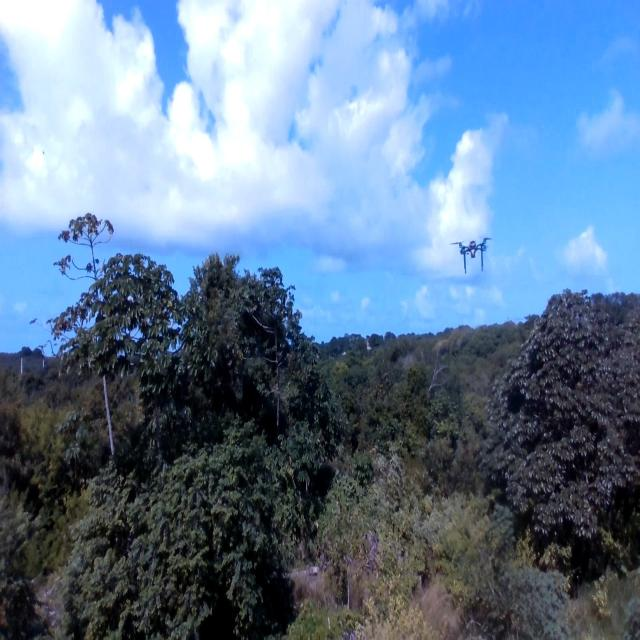-uav-: (447, 222, 501, 286)
